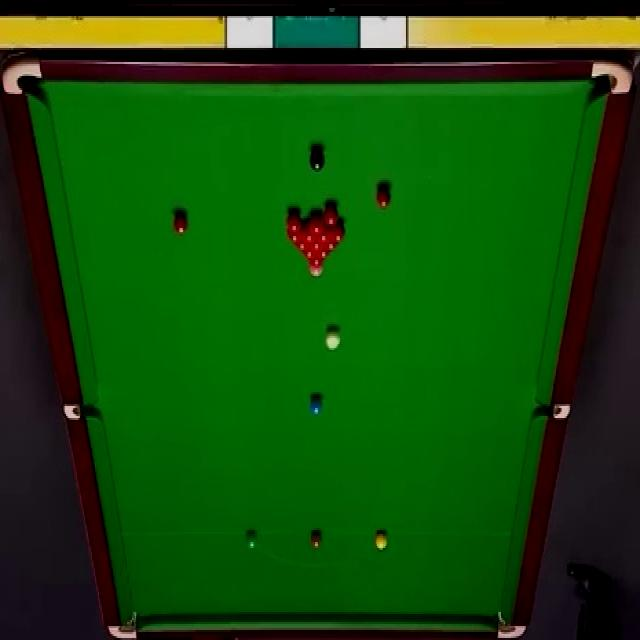black-ball: (309, 147, 325, 173)
blue-ball: (310, 398, 323, 416)
brown-ball: (310, 531, 323, 548)
green-ball: (244, 528, 258, 552)
pink-ball: (308, 260, 323, 277)
red-ball: (374, 184, 392, 210), (329, 220, 345, 244), (285, 210, 303, 231), (173, 211, 188, 236), (323, 206, 339, 228), (300, 224, 318, 242), (309, 214, 323, 235), (287, 224, 302, 243), (294, 238, 310, 253), (322, 239, 338, 253), (318, 222, 329, 242), (309, 238, 323, 252), (304, 246, 316, 262), (316, 248, 330, 260)
white-ball: (326, 331, 342, 350)
yellow-ball: (374, 530, 388, 551)
